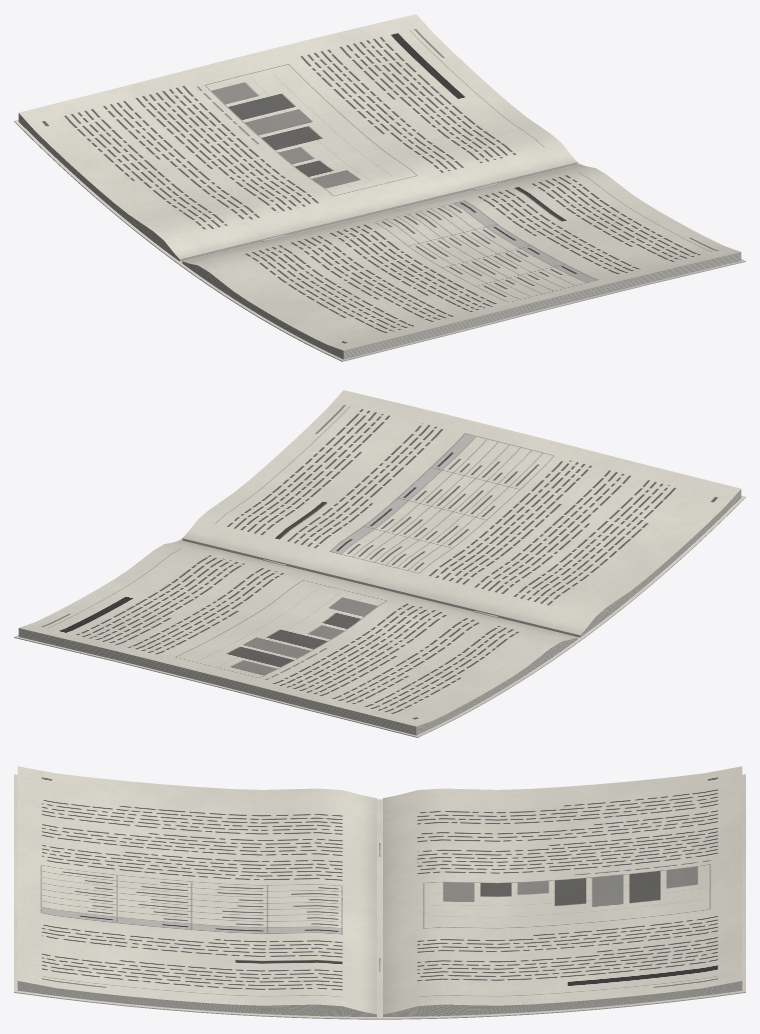
File: SM_BookletOpen.fbx
3 views of the same model, one above another, from view 1: azimuth 30°, elevation 25°; view 2: azimuth 150°, elevation 25°; view 3: azimuth 270°, elevation 25° (orthographic). The views are drawn at different scales.
Parts seen in each view (by area): view 1: SM_BookletOpen; view 2: SM_BookletOpen; view 3: SM_BookletOpen.
Boxes of the visible parts, box(x1,y1,x2,y2) form: SM_BookletOpen: box(14, 14, 745, 361); SM_BookletOpen: box(14, 390, 745, 737); SM_BookletOpen: box(14, 766, 745, 1019).
Size of the model in its own units: 21 by 1.7 by 29.6.
